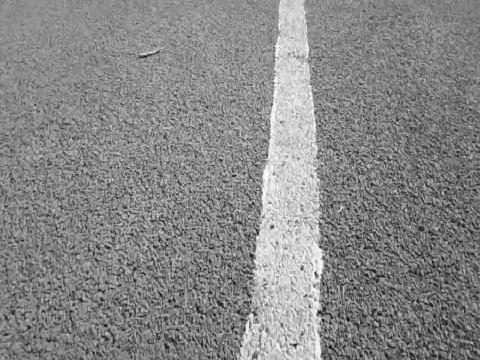Lines: (238, 0, 323, 360)
